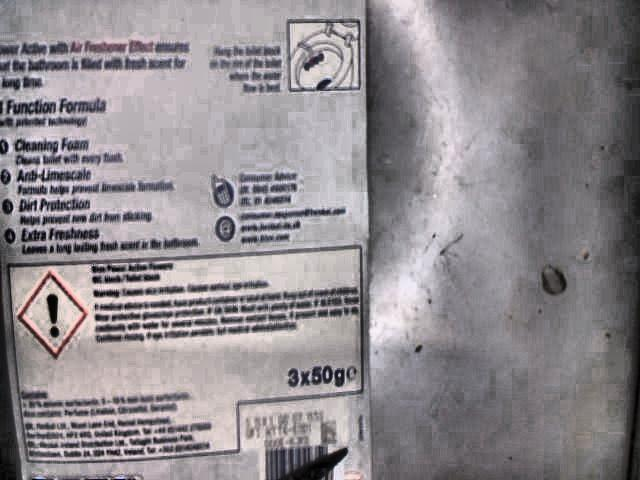Paper: (0, 0, 378, 478)
